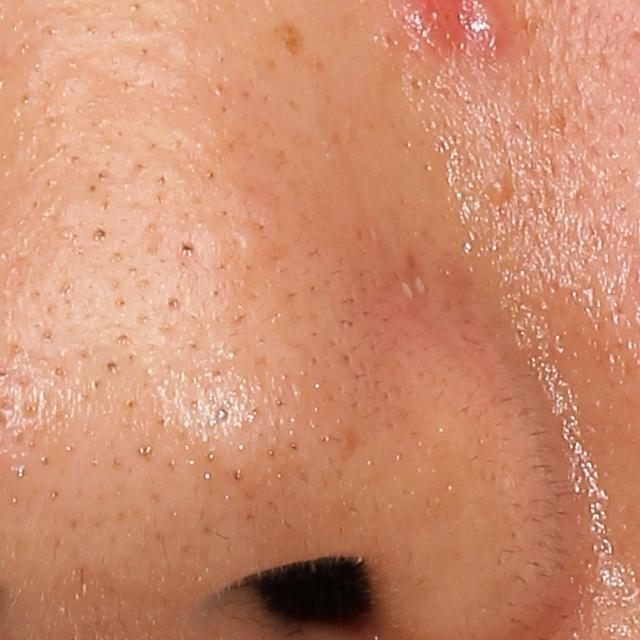comedo: (483, 180, 514, 211), (88, 222, 112, 245), (103, 357, 123, 377)
melasma: (275, 14, 307, 61)
